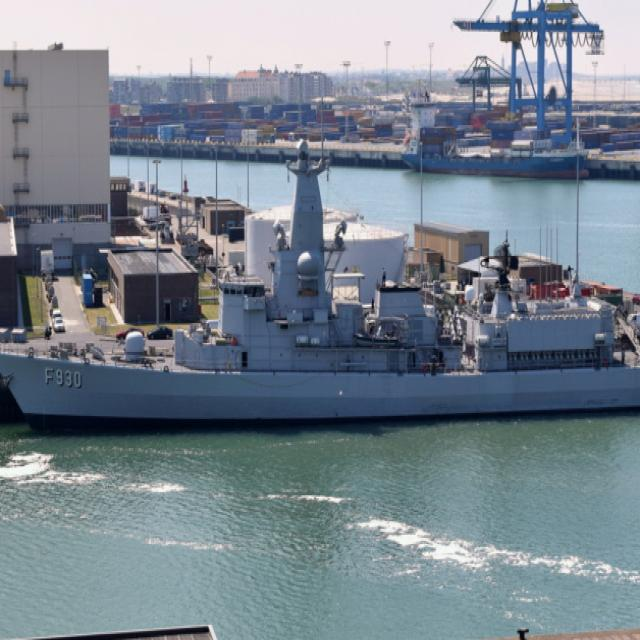Fragata: (1, 118, 640, 440)
